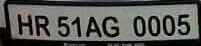character: (16, 12, 34, 35), (33, 14, 51, 36), (101, 15, 119, 37), (85, 16, 102, 37), (162, 14, 176, 36), (177, 13, 191, 35), (132, 14, 145, 37), (147, 14, 160, 36), (70, 15, 82, 38), (57, 15, 70, 36)
